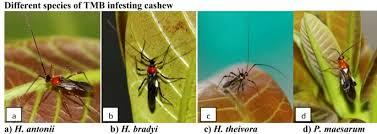Helopeltis-insect: (43, 70, 94, 100), (140, 59, 164, 113), (336, 55, 361, 104), (224, 71, 246, 89)
